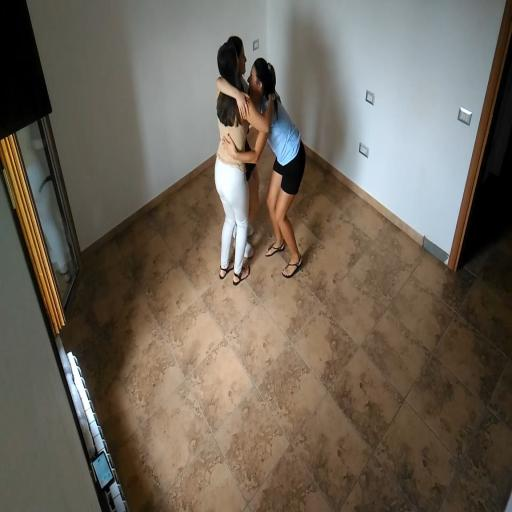nao-violencia: (198, 27, 322, 293)
